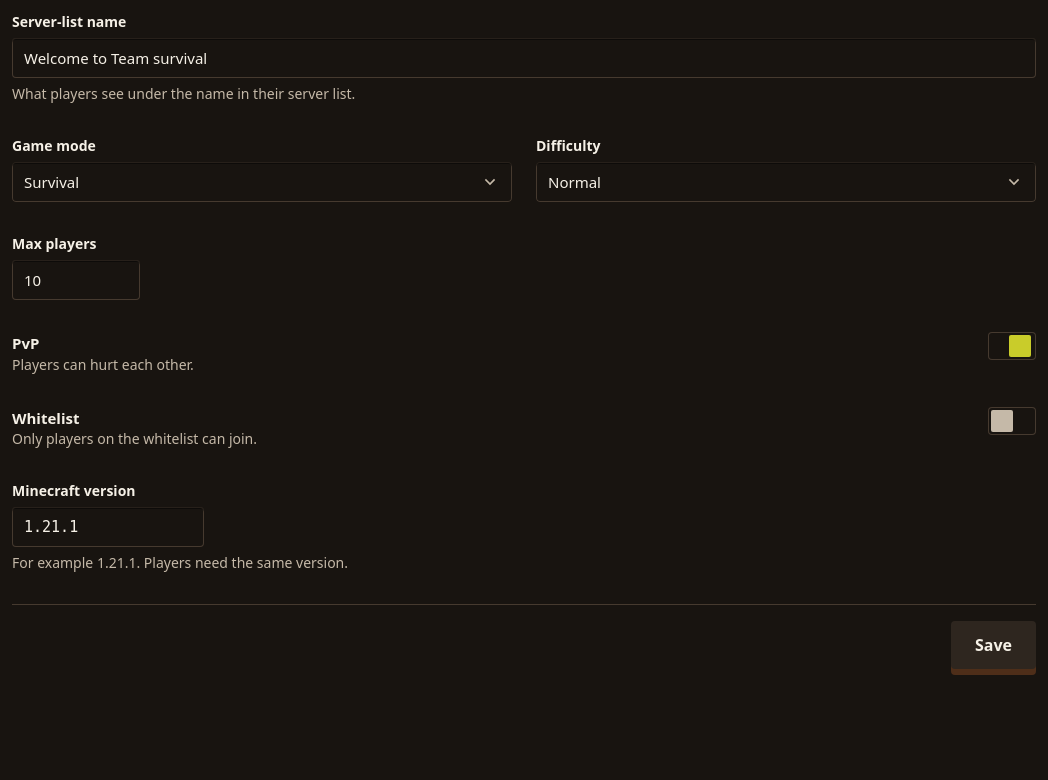
Test case: ManageSettings › settings someone else changed are loaded again
Select "Creative" in the dropdown labelled "Game mode": (262, 182) [12, 162, 512, 202]
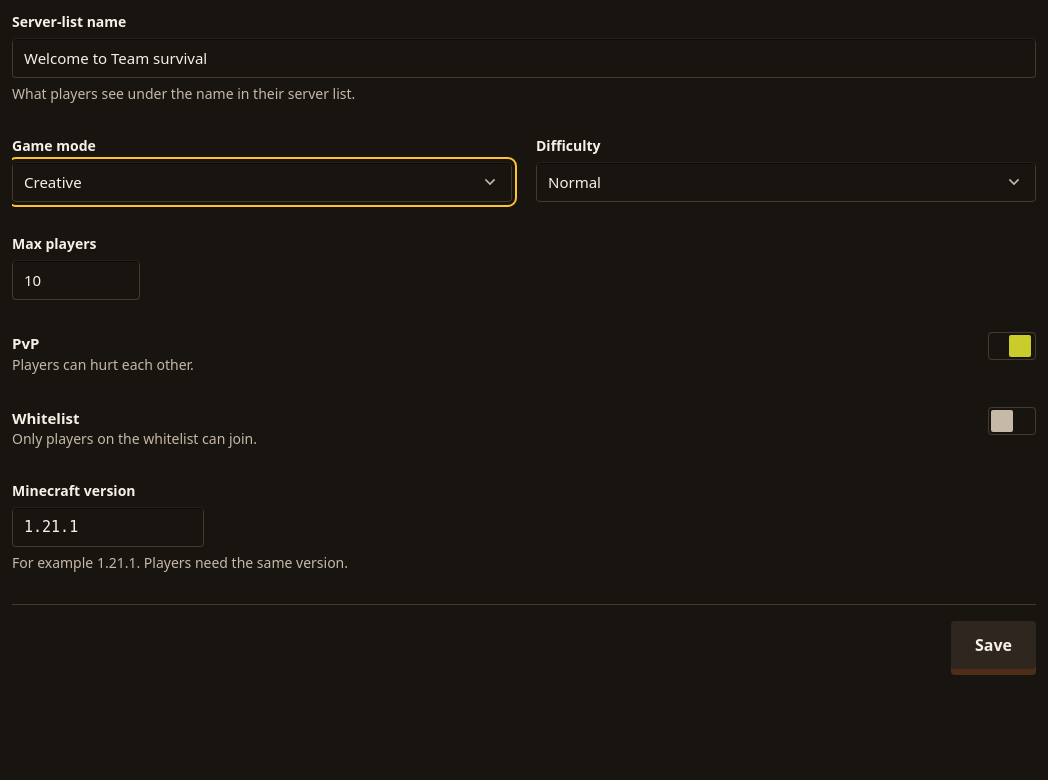
Click the button "Save": (994, 645) [951, 621, 1036, 669]
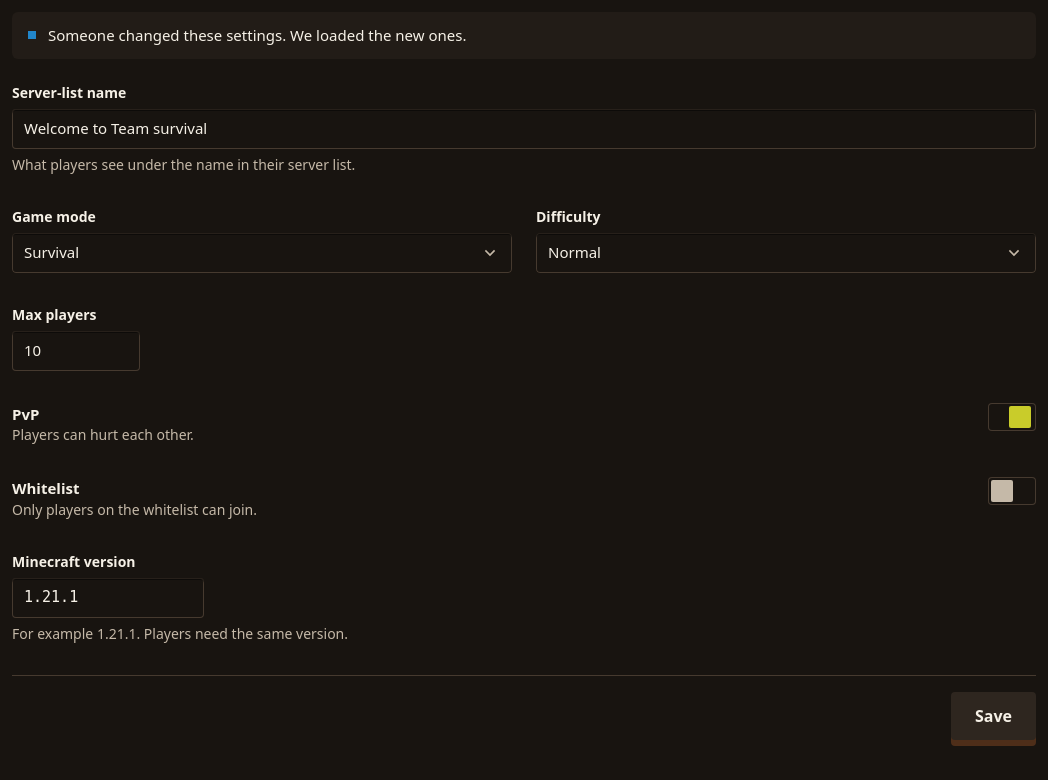
Expected: the text "Someone changed these settings. We loaded the new ones." is shown, [12, 12, 1036, 58]
